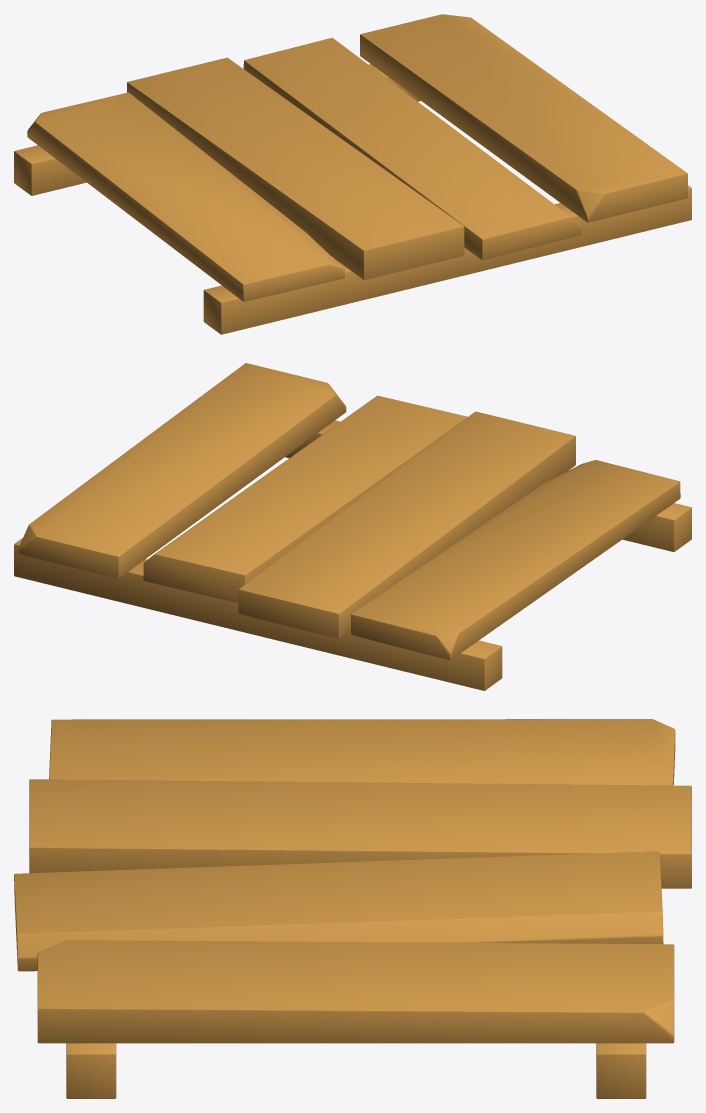
Rendered from Module_Wooden_Walkway.fbx.
3 views of the same model, one above another, from view 1: azimuth 30°, elevation 25°; view 2: azimuth 150°, elevation 25°; view 3: azimuth 270°, elevation 25° (orthographic). The views are drawn at different scales.
Parts seen in each view (by area): view 1: Module_Wooden_Walkway_Geometry; view 2: Module_Wooden_Walkway_Geometry; view 3: Module_Wooden_Walkway_Geometry.
Boxes of the visible parts, x1,y1,x2,y2 form: Module_Wooden_Walkway_Geometry: (14, 14, 691, 334); Module_Wooden_Walkway_Geometry: (14, 363, 691, 690); Module_Wooden_Walkway_Geometry: (14, 719, 691, 1098).
Size of the model in its own units: 2.35 by 0.2986 by 2.09.
